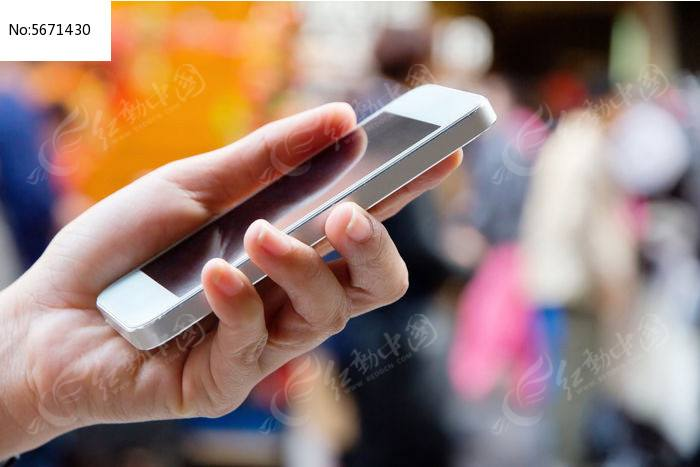phone: (39, 71, 499, 421)
